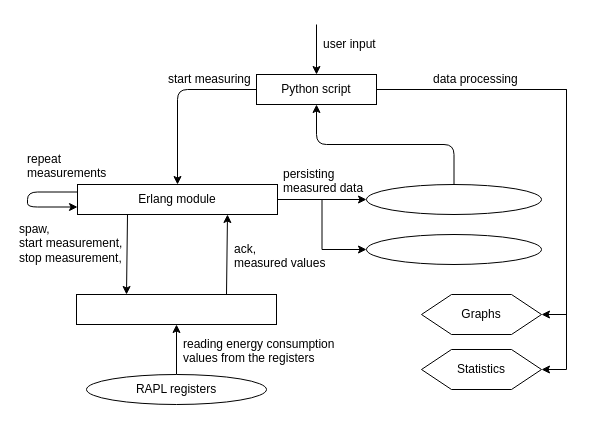
The diagram is 592 pixels wide and 422 high, and some of its shapes have lost their labels. Here are the shapes that lost their labels. From the top down, the box of each, then its label:
(366, 184, 542, 214): CSV logs
(366, 234, 542, 264): dets tables
(76, 294, 276, 324): rapl-read.c
